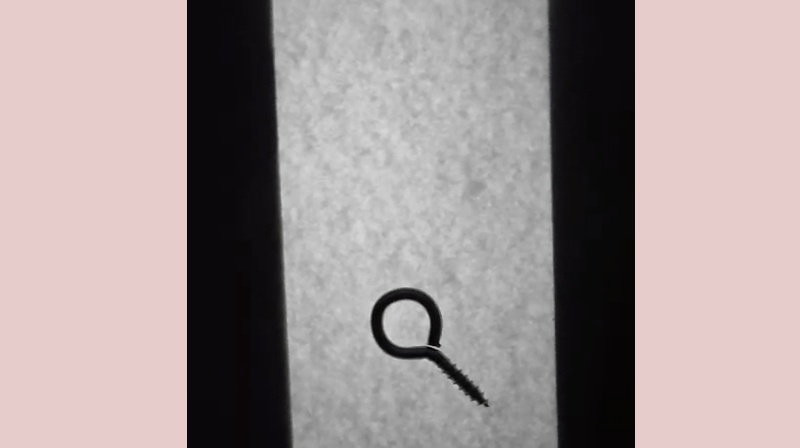O001: (367, 280, 491, 410)
